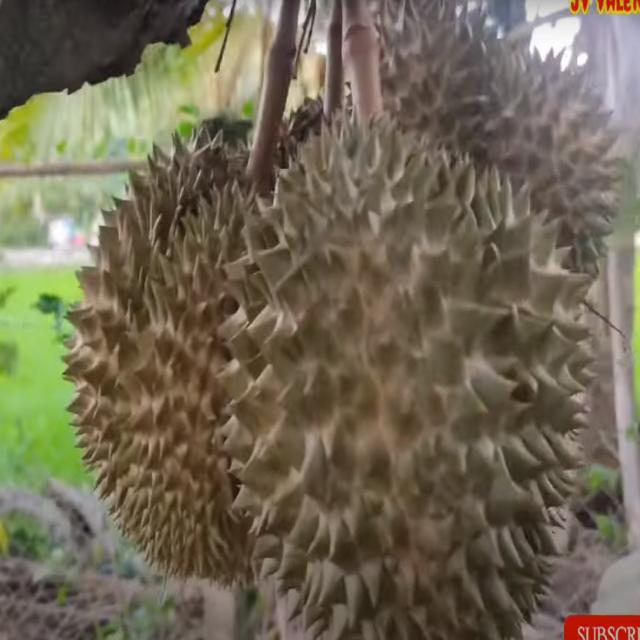mature: (219, 115, 600, 639), (61, 110, 317, 590)
